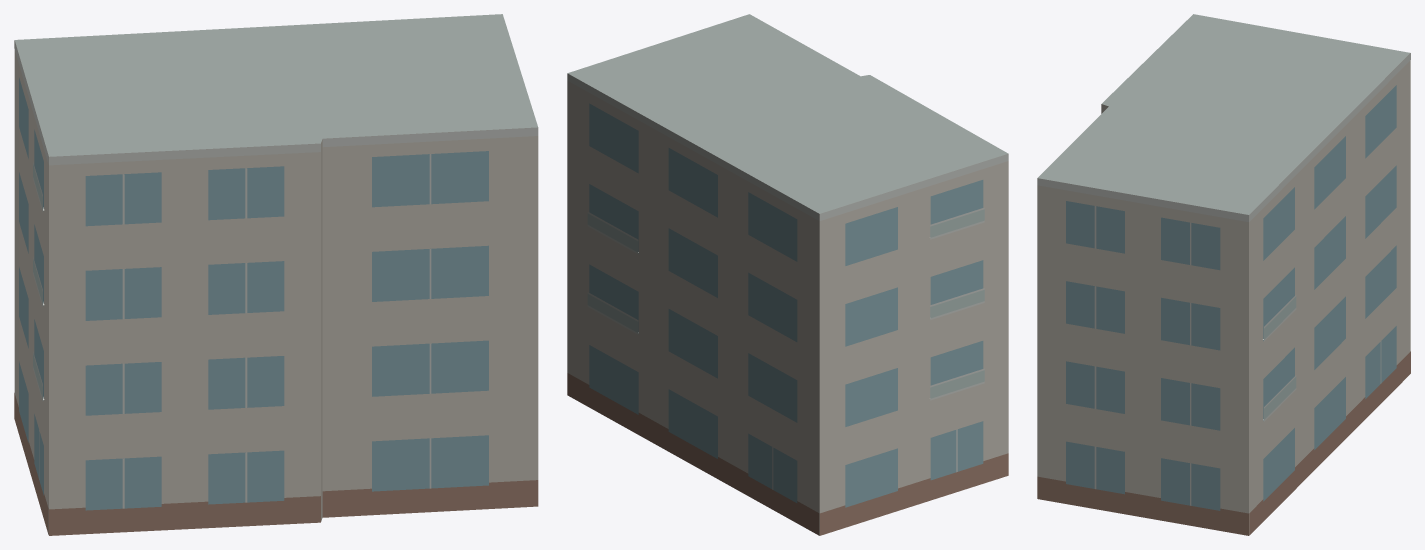
Rendered from survey-upis-32522235.glb.
The picture shows the model from 3 angles, left to right: view 1: azimuth 30°, elevation 25°; view 2: azimuth 150°, elevation 25°; view 3: azimuth 270°, elevation 25°; orthographic projection. The views are drawn at different scales.
Visible parts, largest first — view 1: survey-upis-32522235.tmp; view 2: survey-upis-32522235.tmp; view 3: survey-upis-32522235.tmp.
Part boxes in pixels (left/top/right/bottom): survey-upis-32522235.tmp: left=14, top=14, right=538, bottom=535; survey-upis-32522235.tmp: left=567, top=14, right=1008, bottom=535; survey-upis-32522235.tmp: left=1037, top=14, right=1410, bottom=535.
Size of the model in its own units: 14.52 by 10.8 by 11.4.
